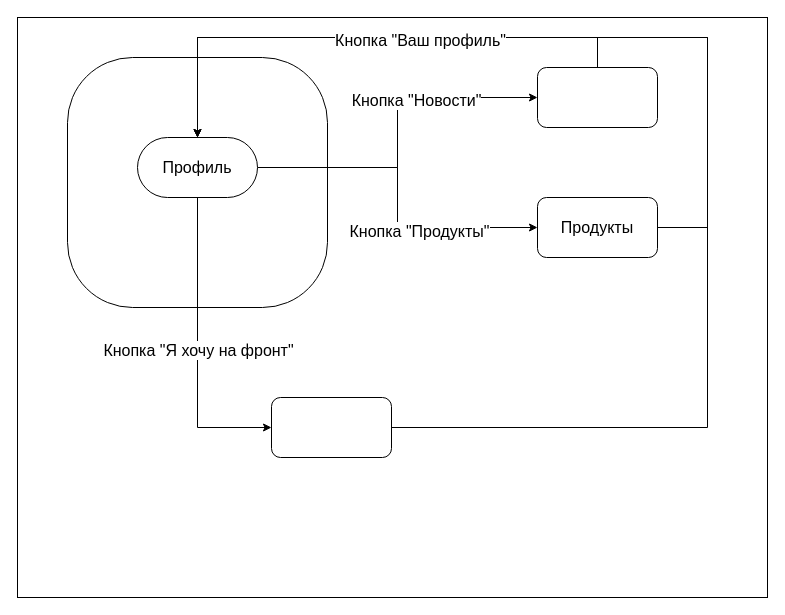
Some shapes in this 785 by 615 pixel diagram are drawn without their labels. The centre of each missing label's shape, as x and y in pixels:
"Заявка отправлена" goes at point 331,427.
"Новости" goes at point 597,97.
